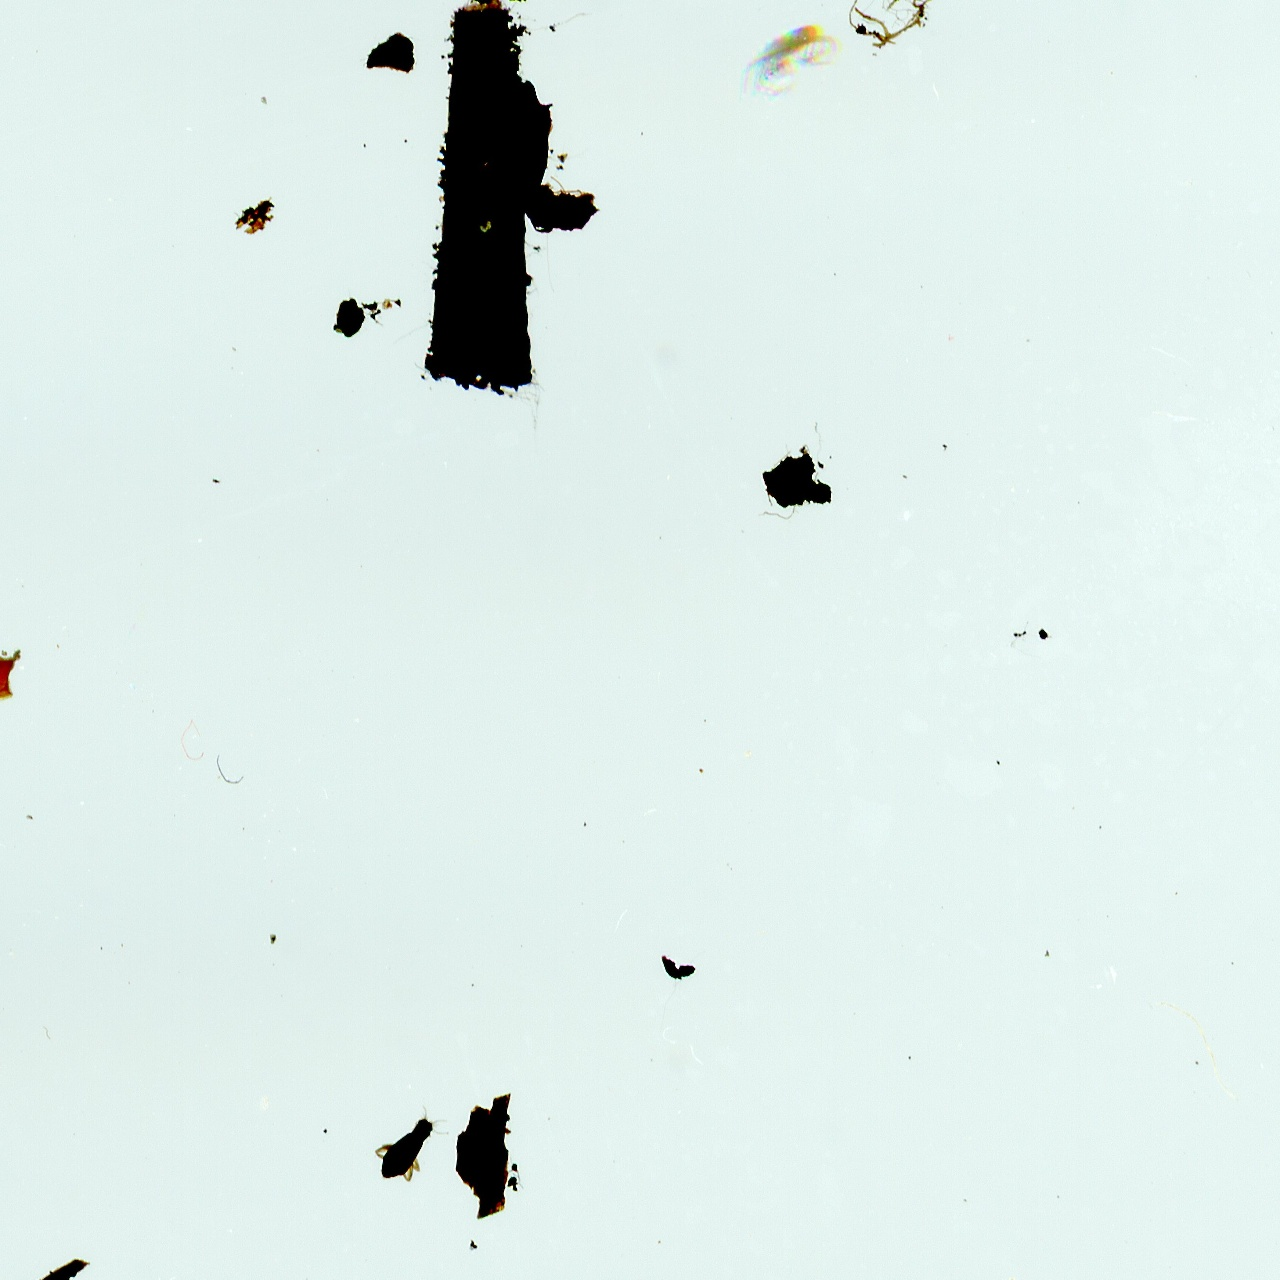arthropod: (738, 18, 840, 98), (372, 1105, 452, 1183)
